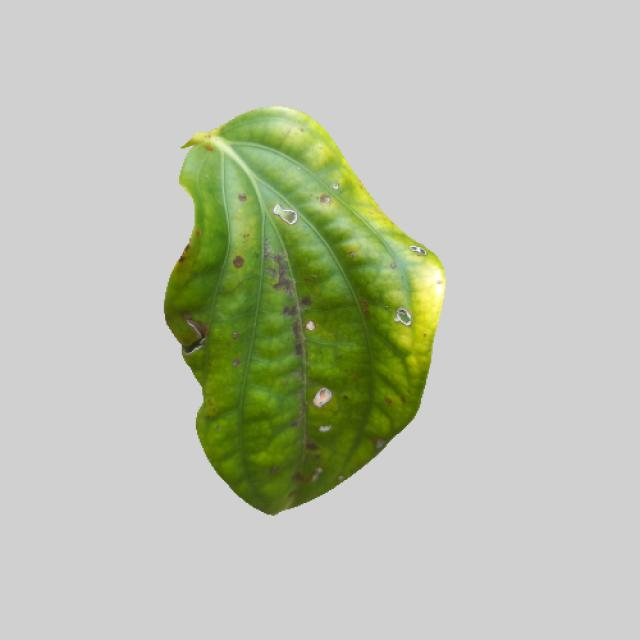yellow-mottle-virus: (151, 111, 447, 511)
